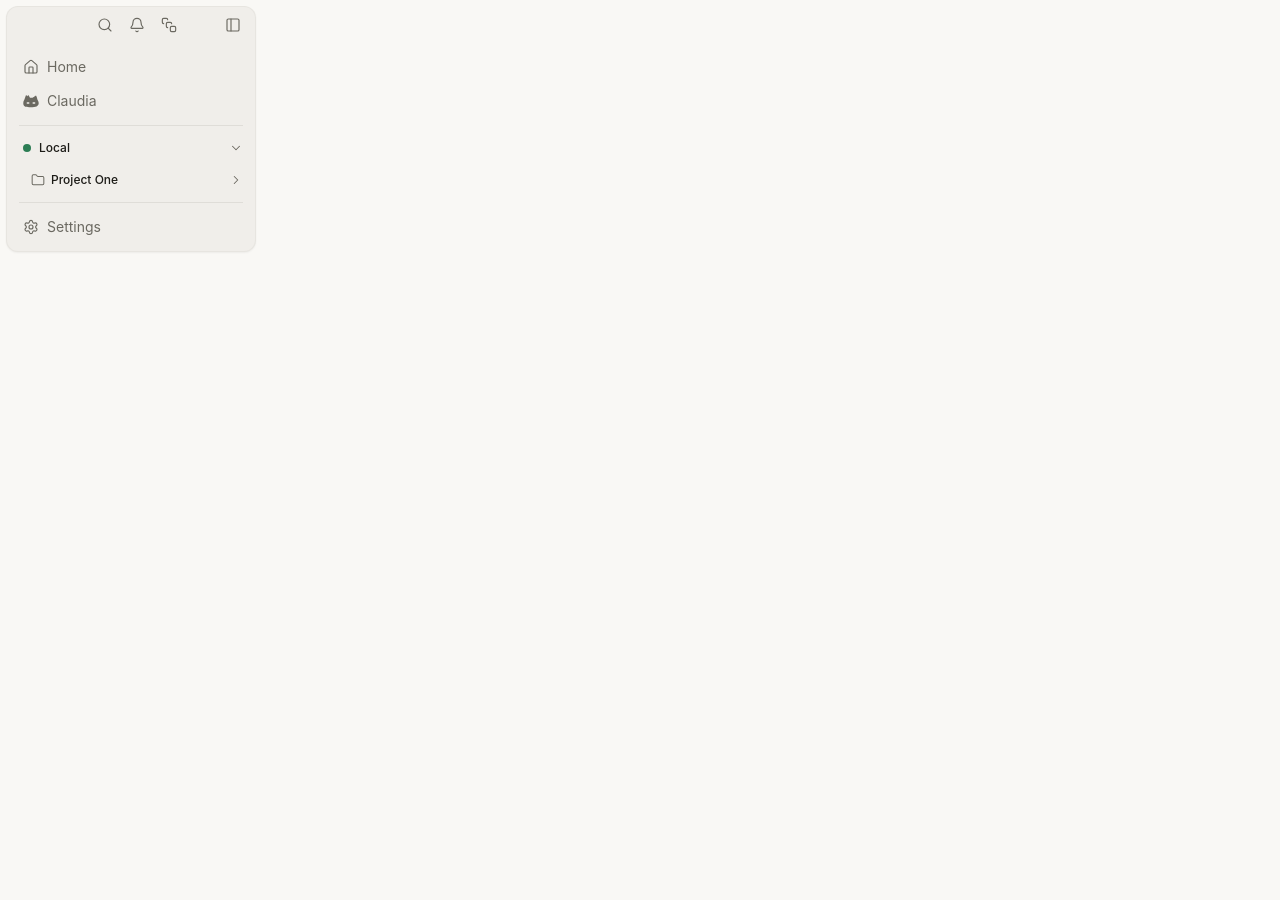
Sidebar › renders search input
This screenshot has width=1280, height=900.
Click the button titled "Search messages".
click(105, 25)  # box x1=91 y1=11 x2=119 y2=39
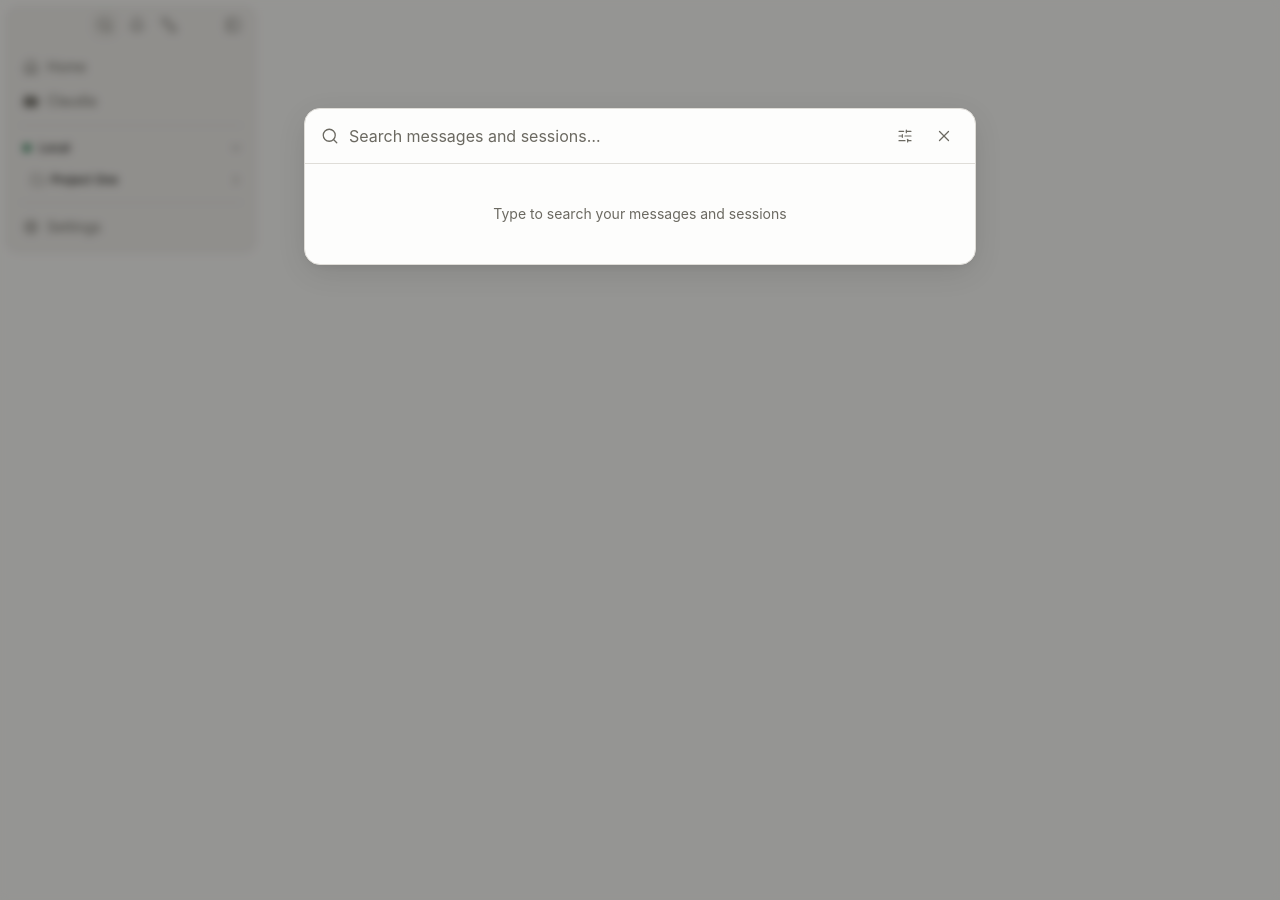
Now the field with placeholder "Search messages and sessions…" is shown, box x1=349 y1=124 x2=881 y2=148
